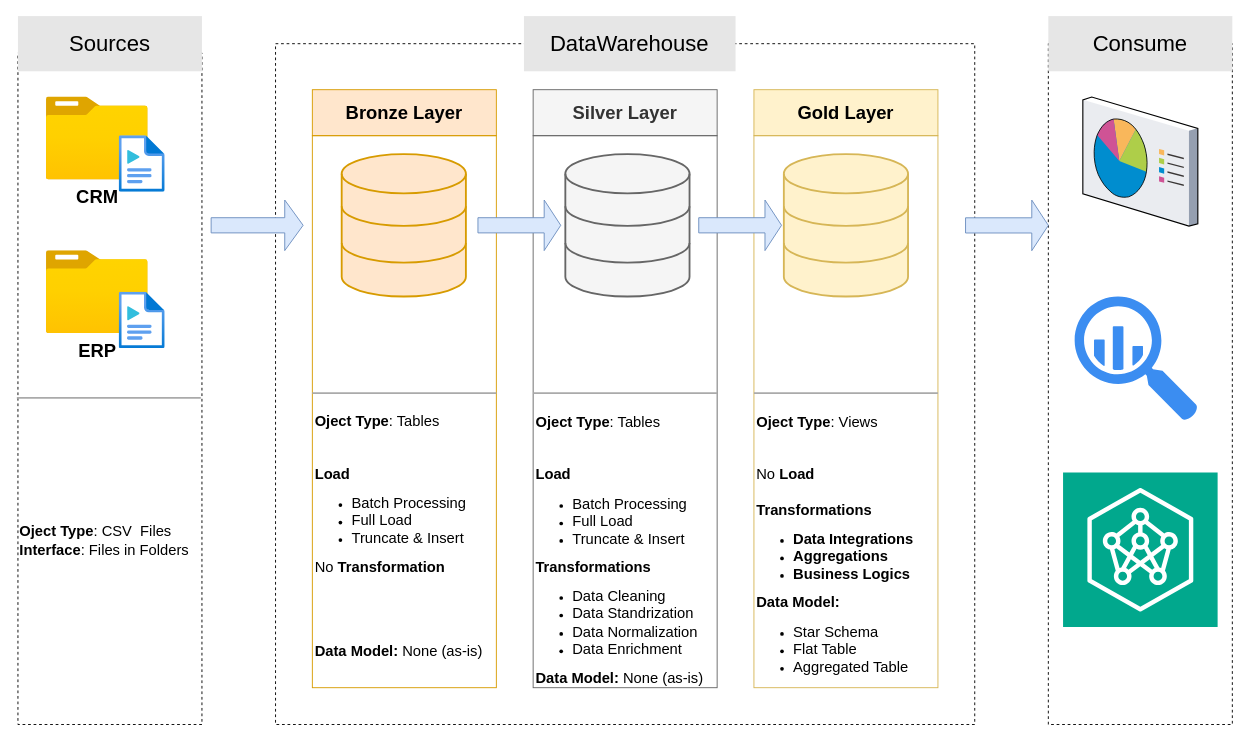
The diagram is 1248 pixels wide and 741 high, and some of its shapes have lost their labels. The box of each missing label's shape, as (x1, y1, x2, y2) in pixels:
Ad-Hoc SQL Queries: (1074, 296, 1197, 420)
BI & Reporting: (1082, 97, 1197, 226)
Machine Learning: (1062, 472, 1218, 627)
